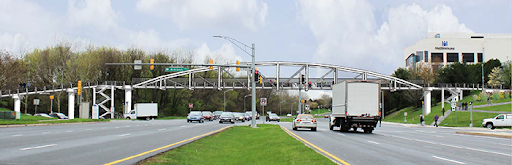bridge: (1, 62, 493, 100)
